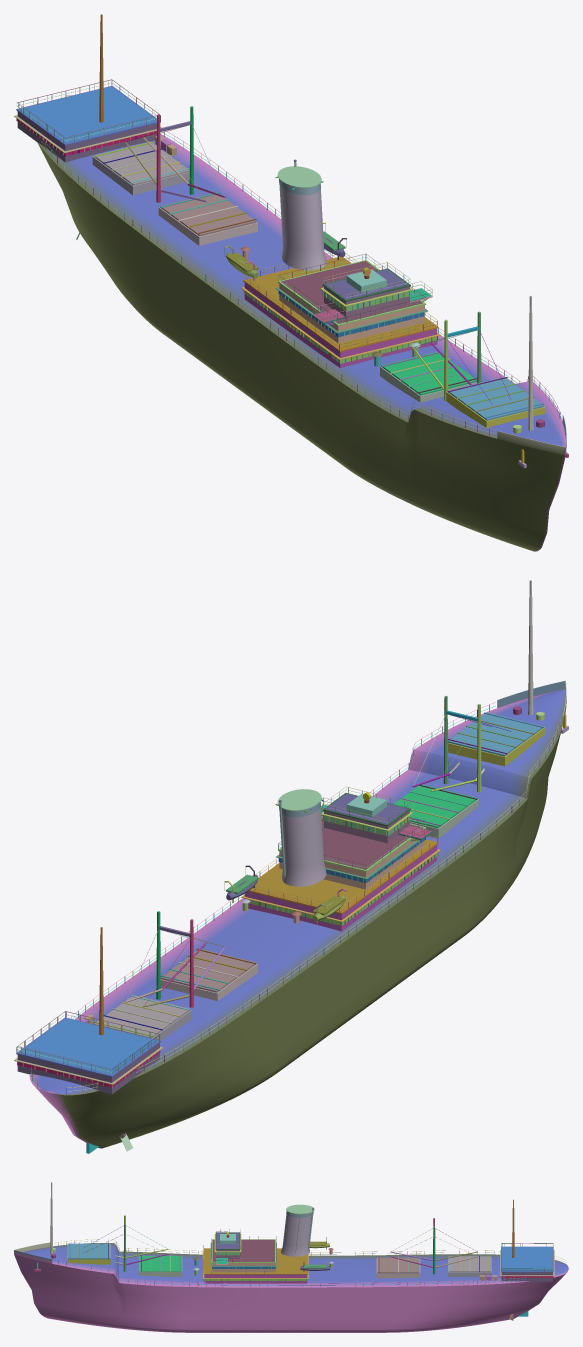
3 renders of one model, top to bottom at view 1: azimuth 30°, elevation 25°; view 2: azimuth 150°, elevation 25°; view 3: azimuth 270°, elevation 25°, orthographic. The views are drawn at different scales.
Visible parts, largest first — view 1: hull; view 2: hull; view 3: hull.
Boxes of the visible parts, <box> form: hull: <box>14,14,568,551</box>; hull: <box>14,580,568,1153</box>; hull: <box>14,1182,568,1332</box>.
Size of what is drawn, in the model's own units: 19.75 by 38.02 by 140.
